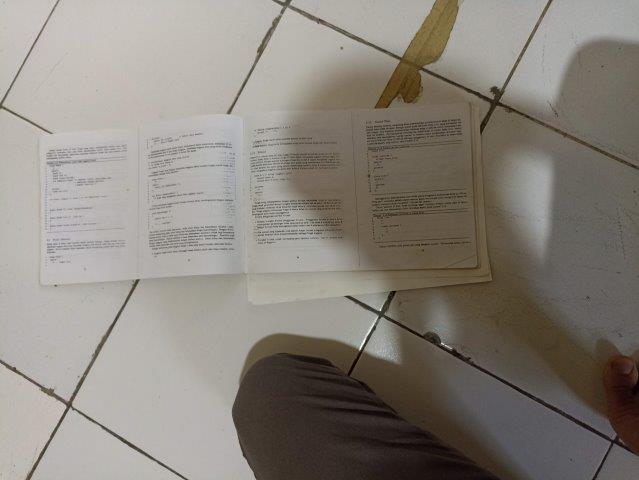kertas: (39, 102, 492, 305)
